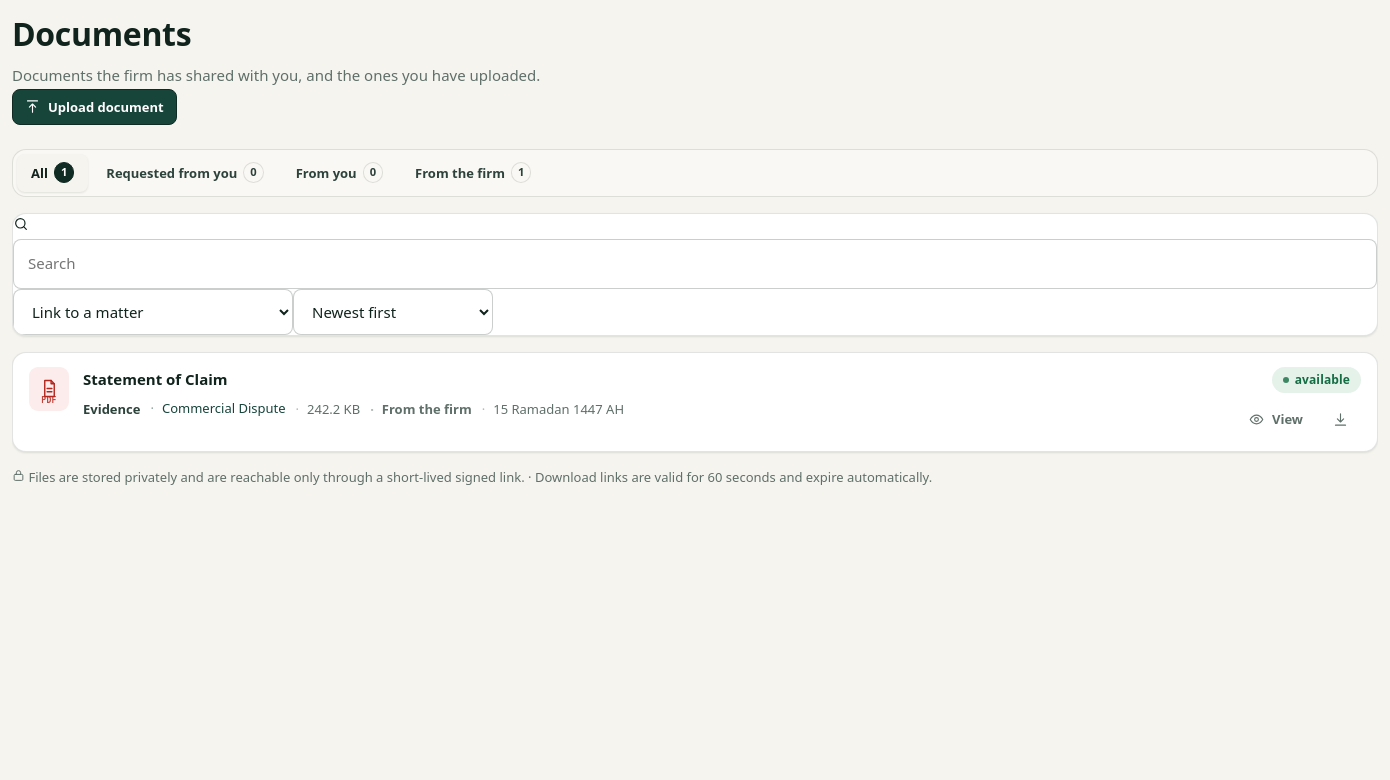
Test: client portal · Documents fulfils what it promises › surfaces an error when a download grant is refused
Expected: the text "Statement of Claim" is shown, [83,369,228,389]
Click the button "View". click: (1276, 419)
box: [1236,401,1316,437]
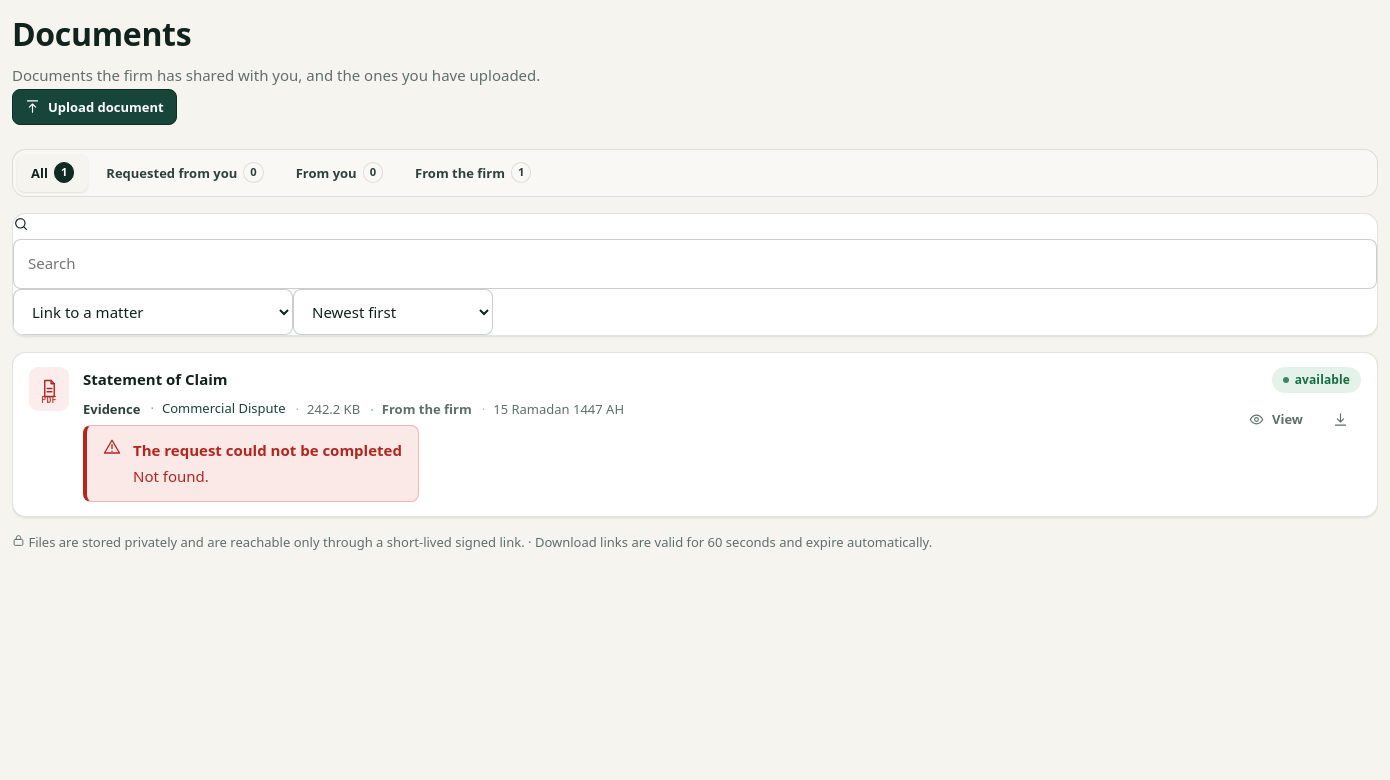
Expected: the text "Not found." is shown, [133,466,209,486]
